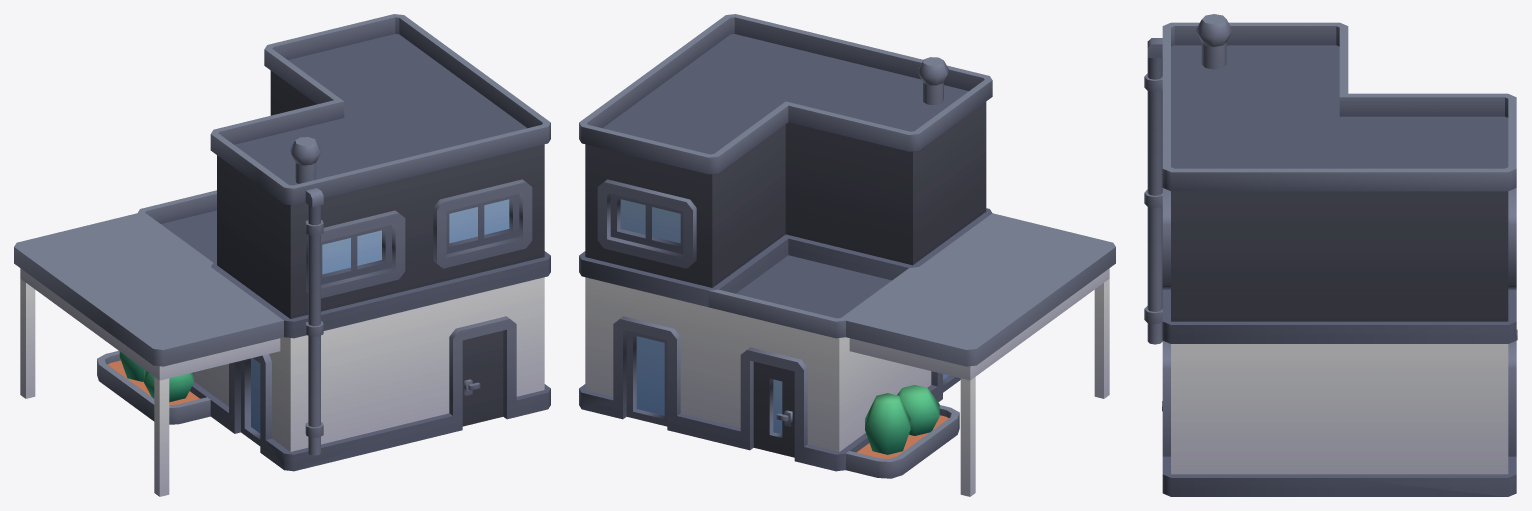
The model's file is house-q.glb.
The picture shows the model from 3 angles, left to right: view 1: azimuth 30°, elevation 25°; view 2: azimuth 150°, elevation 25°; view 3: azimuth 270°, elevation 25°; orthographic projection. The views are drawn at different scales.
Visible parts, largest first — view 1: building-type-q; view 2: building-type-q; view 3: building-type-q.
Part boxes in pixels (x1,y1,x2,y2): building-type-q: (14, 14, 550, 496); building-type-q: (579, 14, 1115, 496); building-type-q: (1144, 14, 1517, 496).
Size of the model in its own units: 1.24 by 0.918 by 0.8856.
1 material, 1 textured.
